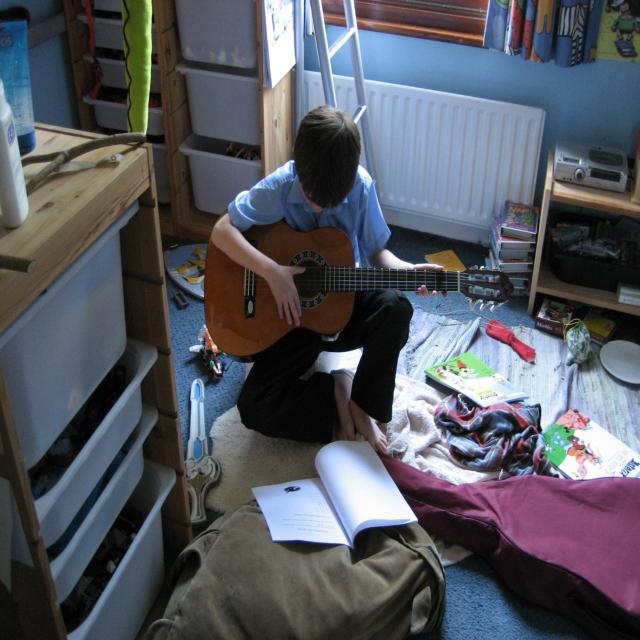guitar: (202, 216, 512, 362)
